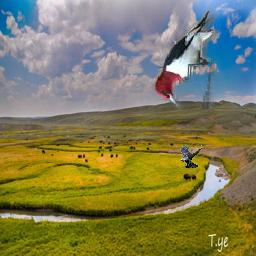Crow: (180, 144, 202, 168)
Woodpecker: (151, 7, 220, 109)
